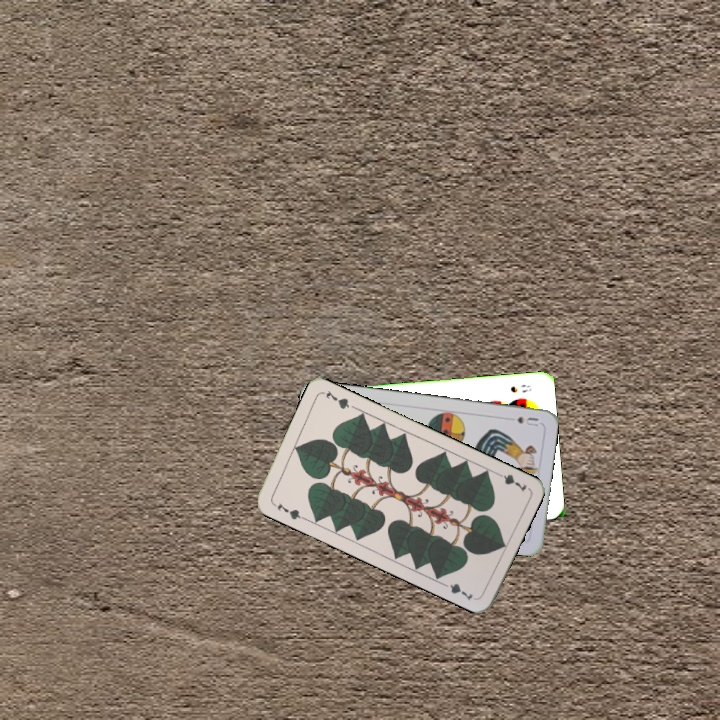G7: (491, 468, 529, 495), (273, 499, 307, 522)
S8: (506, 380, 534, 395)
SU: (513, 412, 541, 429)
